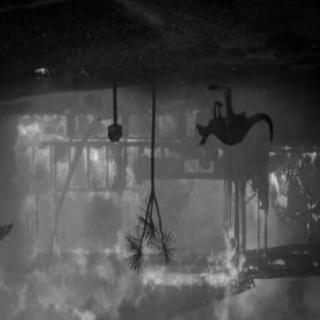Fire: (5, 110, 313, 317)
